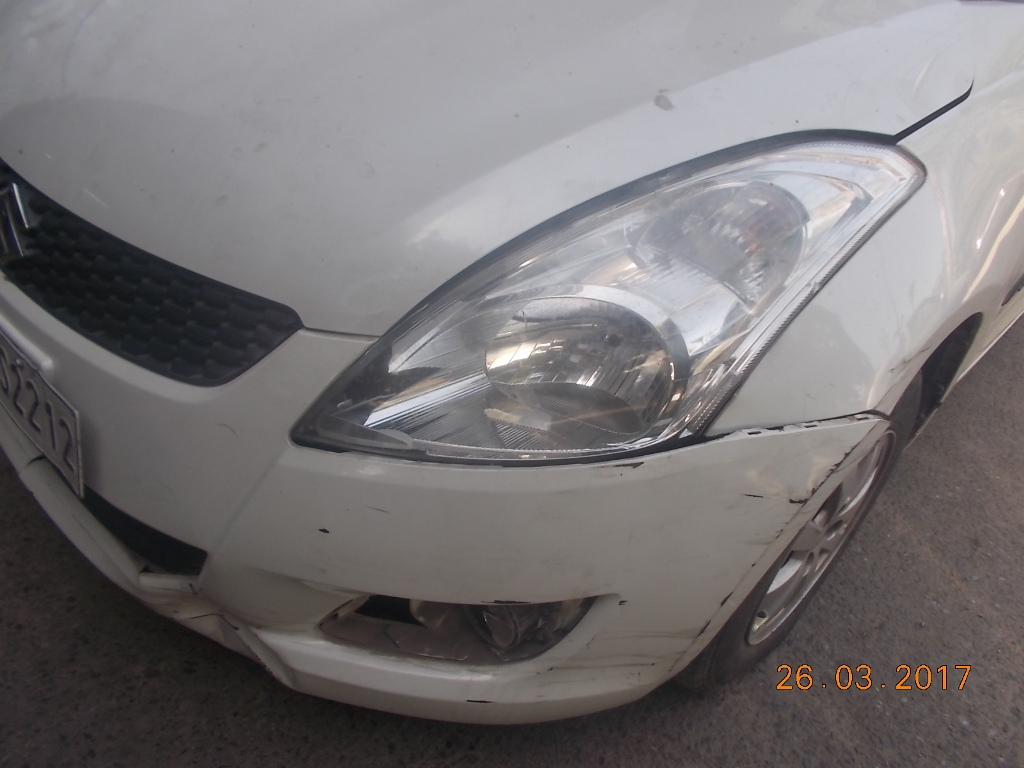Dislocation: (686, 384, 893, 495)
